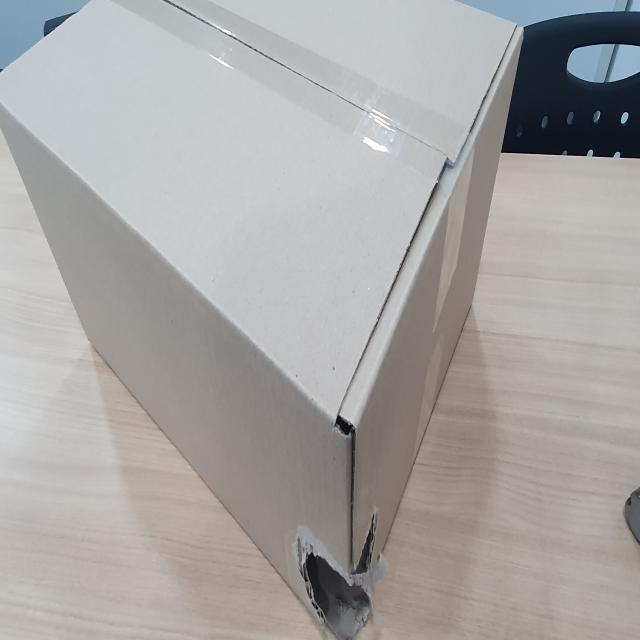hole: (302, 509, 380, 637)
